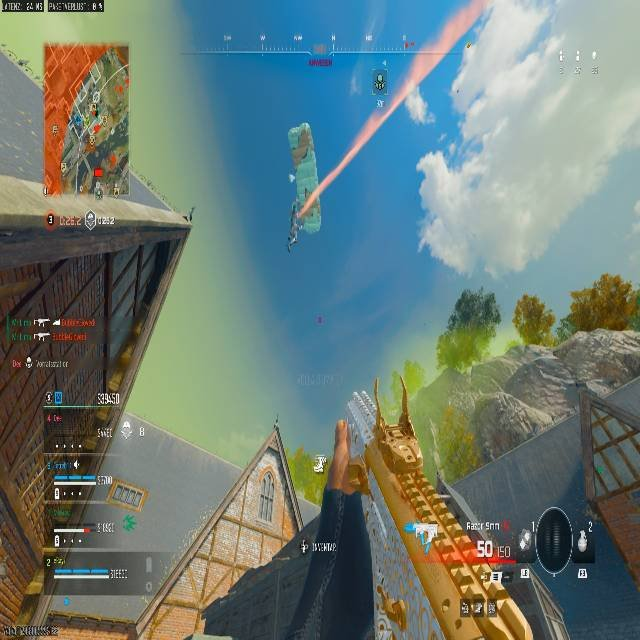player: (303, 294, 639, 640), (287, 120, 320, 246)
